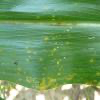Corn rust leaf: (1, 7, 99, 99)
